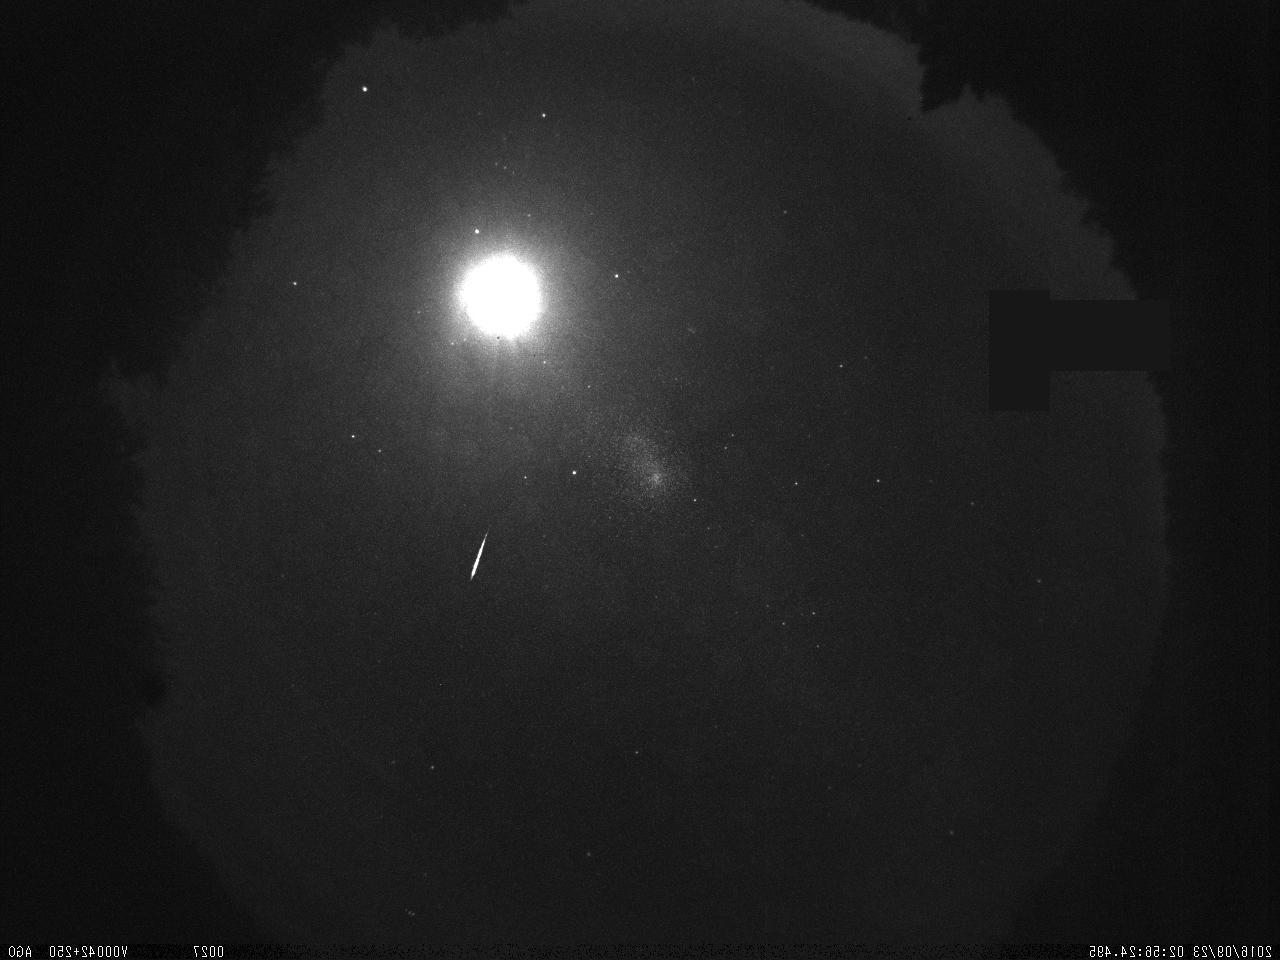meteor: (450, 518, 508, 594)
